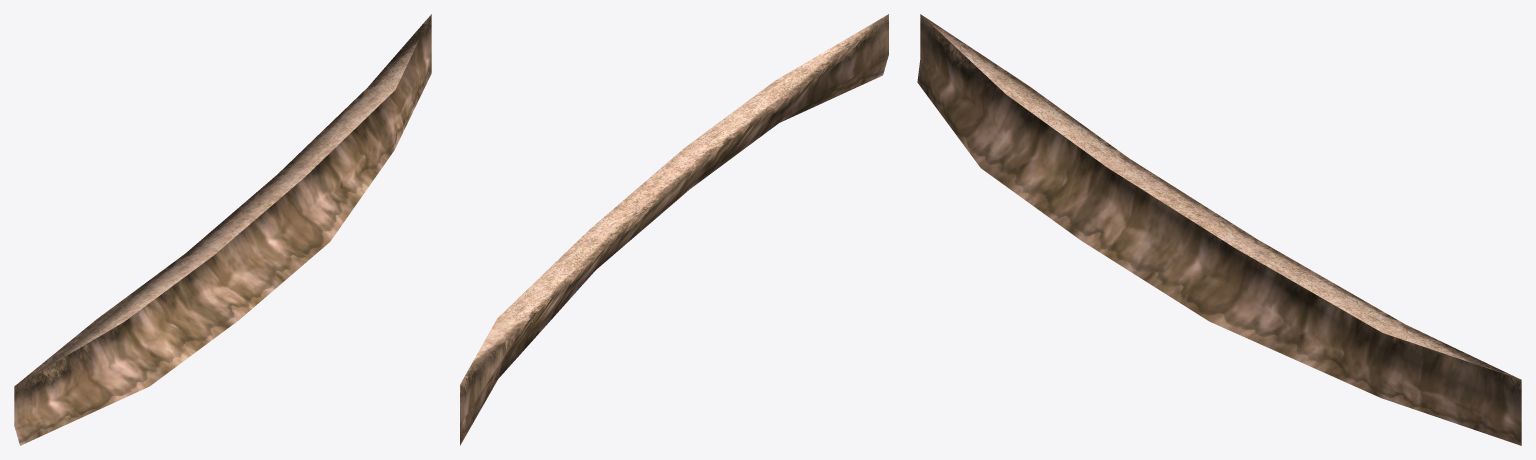
Rendered from OVERHILL_A_01_LINE23.fbx.
3 renders of one model, left to right at view 1: azimuth 30°, elevation 25°; view 2: azimuth 210°, elevation 25°; view 3: azimuth 270°, elevation 25°, orthographic. The views are drawn at different scales.
Visible parts, largest first — view 1: OVERHILL_A_01_LINE23; view 2: OVERHILL_A_01_LINE23; view 3: OVERHILL_A_01_LINE23.
Part boxes in pixels (x1=…): OVERHILL_A_01_LINE23: x1=14, y1=14, x2=431, y2=445; OVERHILL_A_01_LINE23: x1=460, y1=14, x2=888, y2=445; OVERHILL_A_01_LINE23: x1=917, y1=14, x2=1521, y2=445.
Bounding box in the file's own units: 58533 × 5329 × 40140.
1 material, 1 textured.
